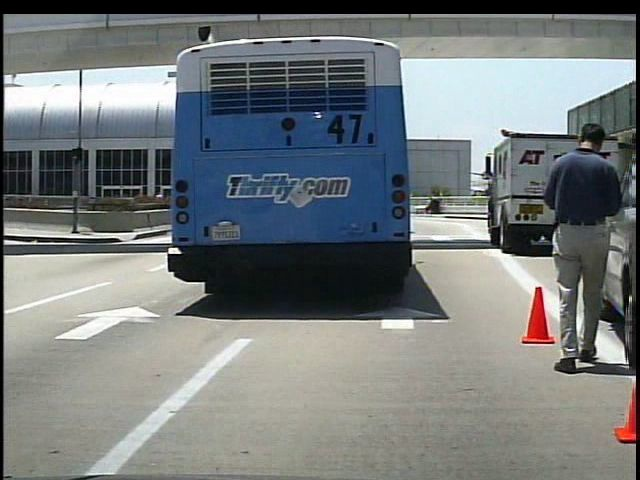person: (542, 118, 624, 372)
